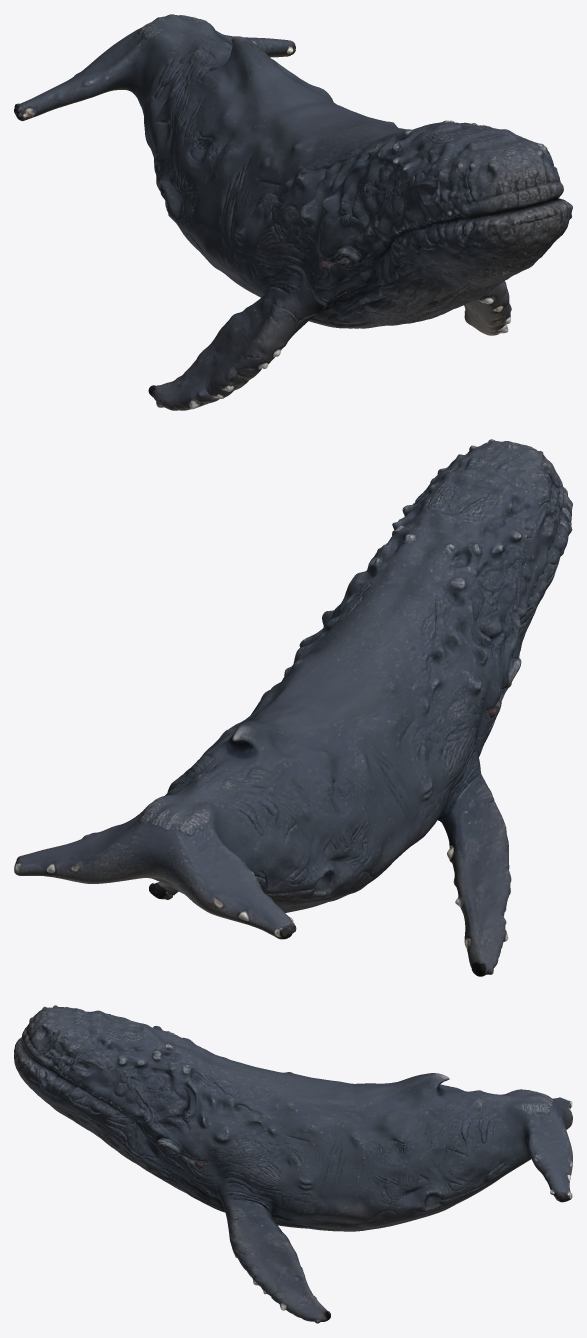
Rendered from sperm_whale.glb.
3 views of the same model, one above another, from view 1: azimuth 30°, elevation 25°; view 2: azimuth 150°, elevation 25°; view 3: azimuth 270°, elevation 25° (orthographic). The views are drawn at different scales.
Visible parts, largest first — view 1: tripo_node_7b7e47f4-99fe-46d1-99ce-8ea881d805e3; view 2: tripo_node_7b7e47f4-99fe-46d1-99ce-8ea881d805e3; view 3: tripo_node_7b7e47f4-99fe-46d1-99ce-8ea881d805e3.
Boxes of the visible parts, box(x1,y1,x2,y2) form: tripo_node_7b7e47f4-99fe-46d1-99ce-8ea881d805e3: box(14, 14, 572, 410); tripo_node_7b7e47f4-99fe-46d1-99ce-8ea881d805e3: box(14, 439, 572, 976); tripo_node_7b7e47f4-99fe-46d1-99ce-8ea881d805e3: box(14, 1005, 572, 1323).
Bounding box in the file's own units: 0.4866 × 0.4906 × 0.9799.
Materials: 1 (1 with a texture image).
